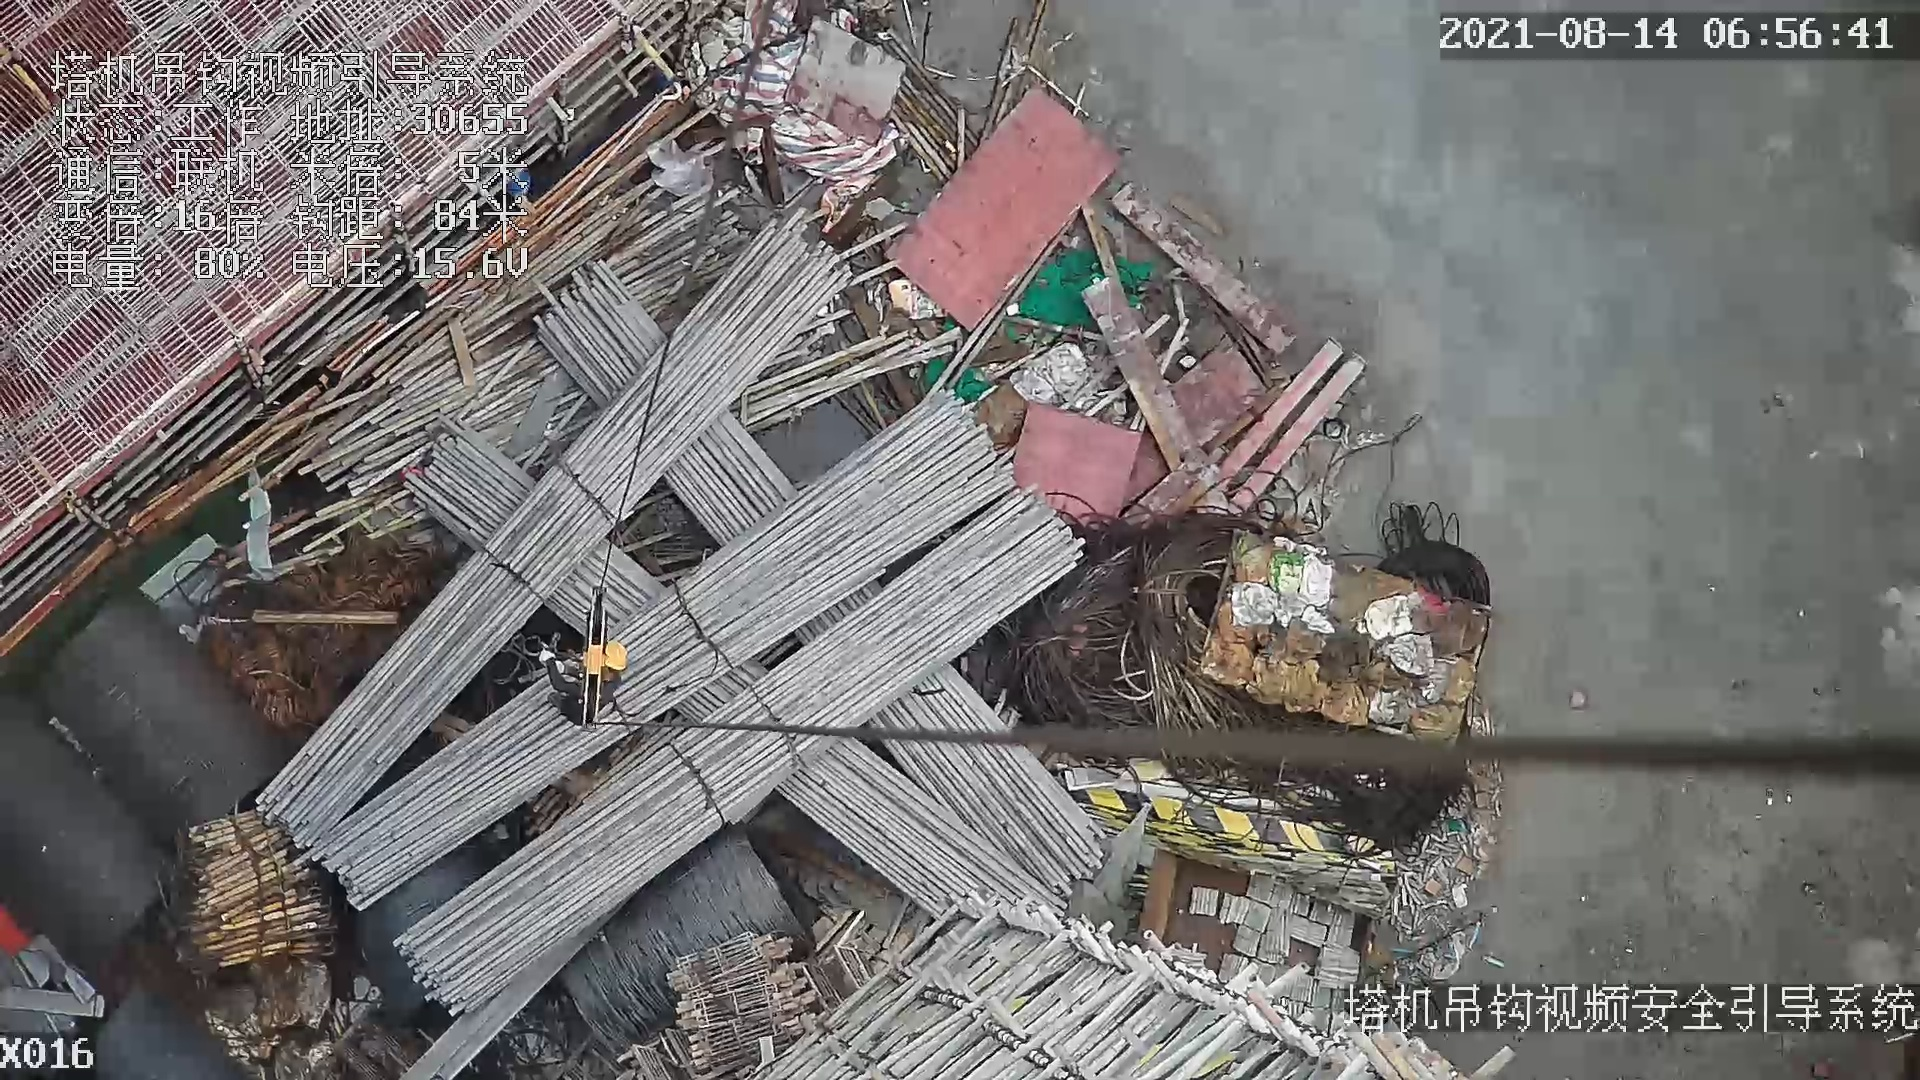helmet: (604, 639, 628, 670)
hook: (568, 586, 628, 730)
person: (544, 641, 629, 717)
rebar: (251, 220, 851, 849), (313, 389, 1013, 911), (396, 484, 1086, 1012), (771, 734, 1069, 922), (867, 665, 1109, 888)
wood: (183, 808, 340, 970)
